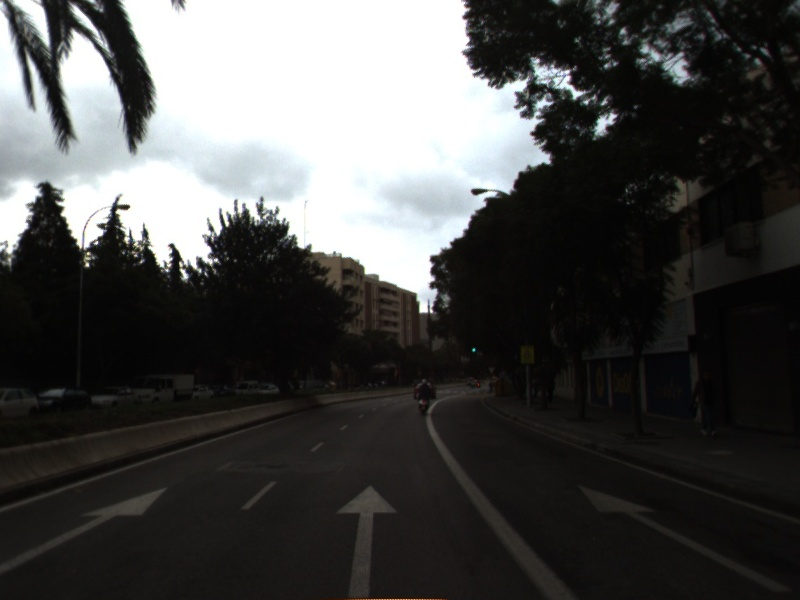STRAIGHT: (574, 480, 797, 596), (1, 484, 174, 574), (332, 481, 402, 600)
